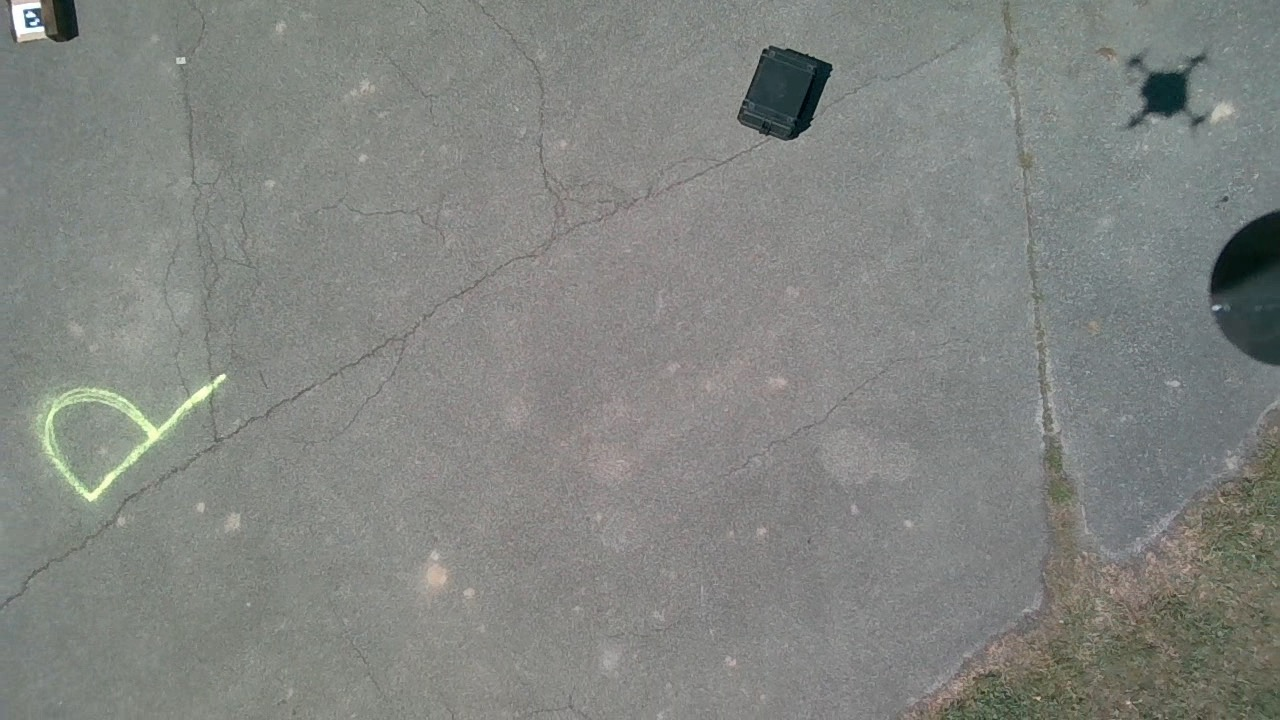rako: (737, 46, 831, 139)
